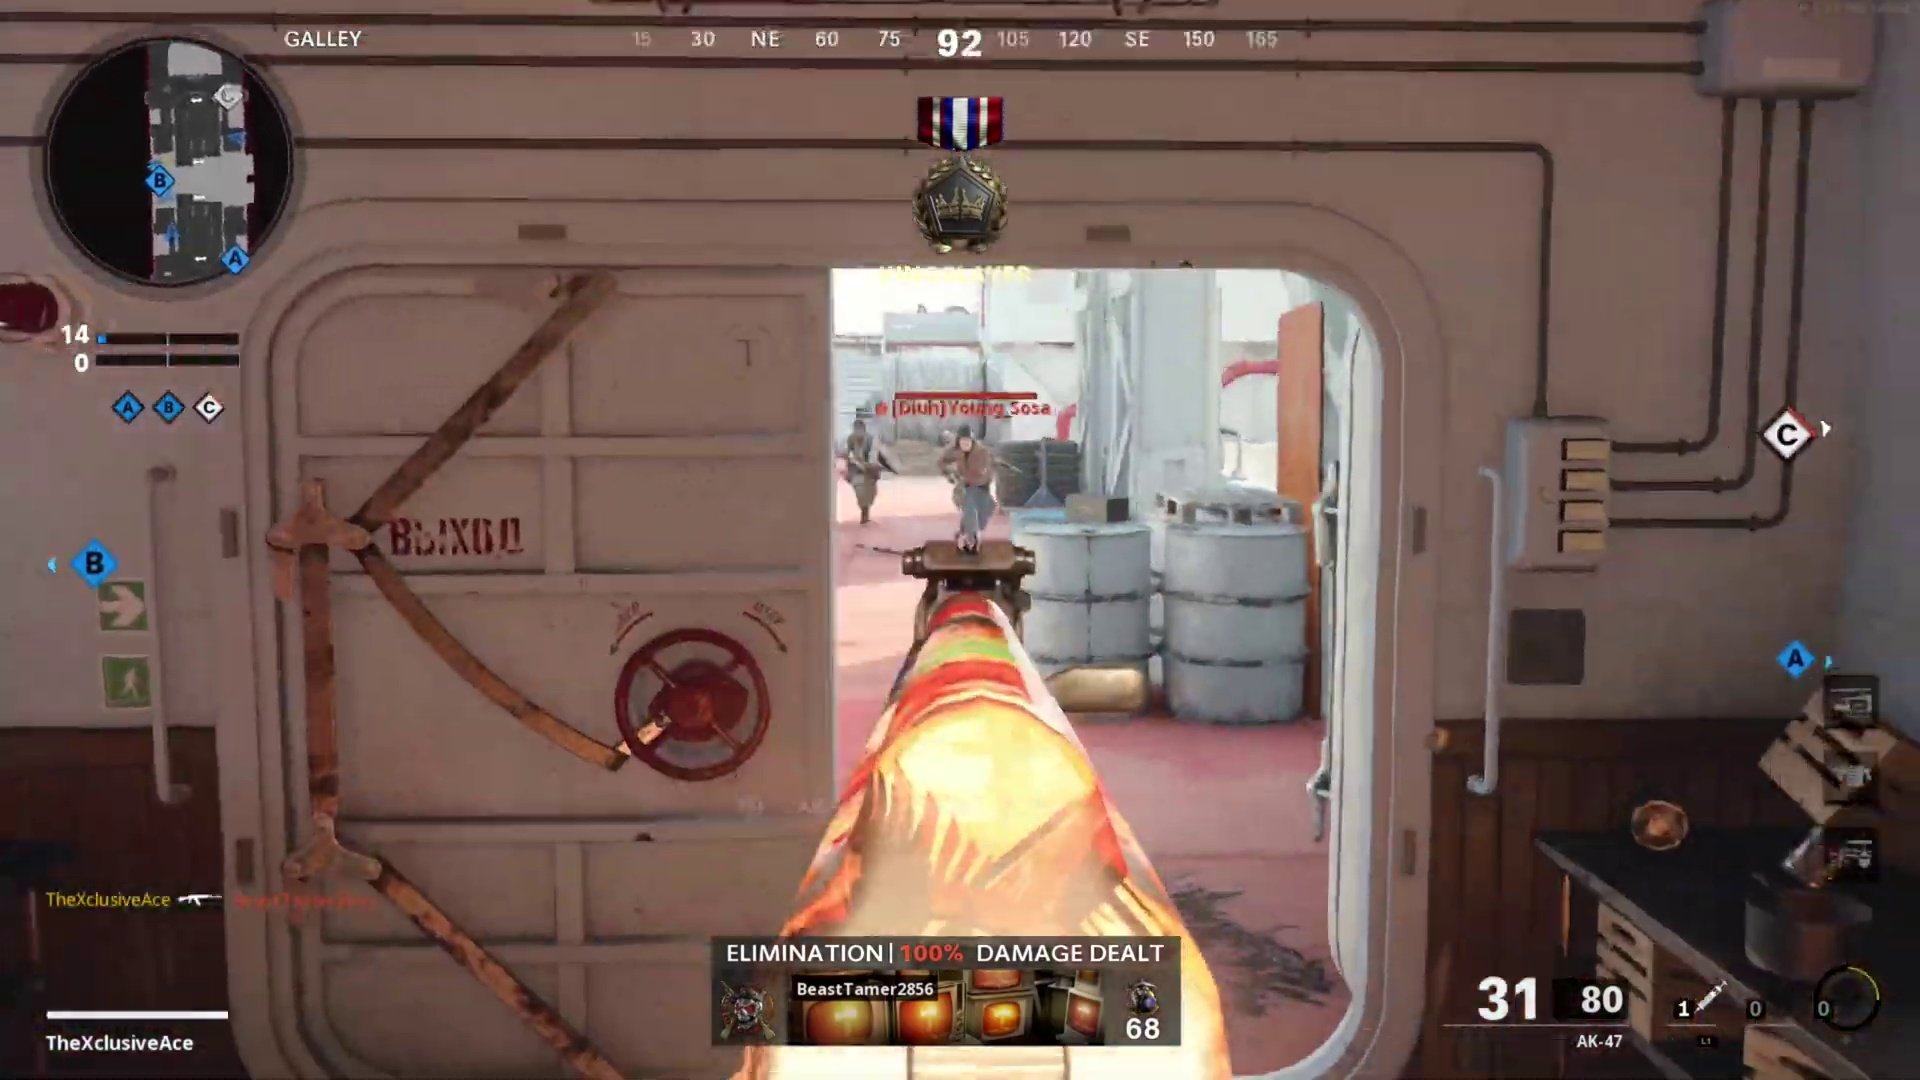head: (952, 421, 978, 458), (848, 415, 870, 448)
person: (937, 424, 993, 550), (836, 417, 896, 525)
